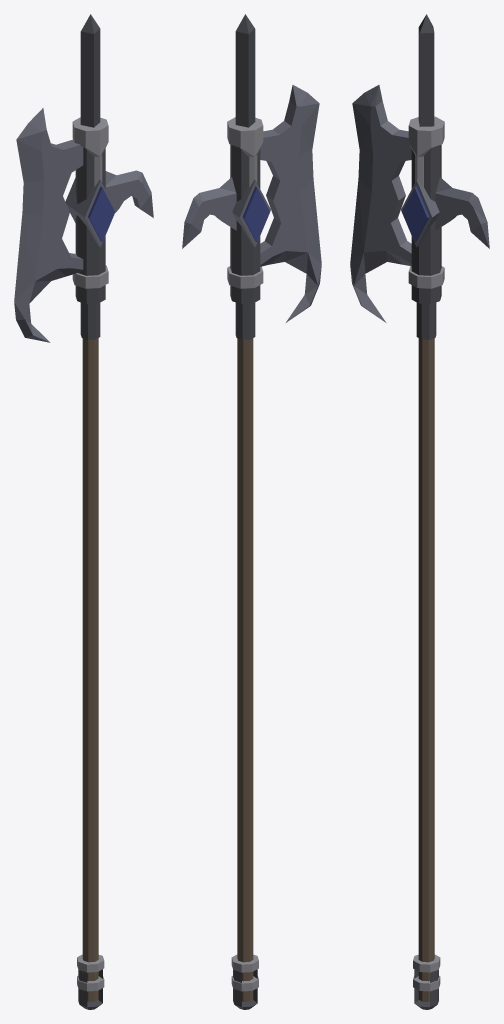
The model's file is Lanca_A09.fbx.
3 views of the same model, side by side, from view 1: azimuth 30°, elevation 25°; view 2: azimuth 210°, elevation 25°; view 3: azimuth 330°, elevation 25° (orthographic).
Visible parts, largest first — view 1: polearm_9; view 2: polearm_9; view 3: polearm_9.
Part boxes in pixels (bbox=[...]): polearm_9: bbox=[14, 14, 153, 1009]; polearm_9: bbox=[182, 14, 321, 1009]; polearm_9: bbox=[350, 14, 489, 1009].
Size of the model in its own units: 30.19 by 205 by 8.86.
